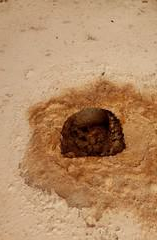Corrosion: (18, 79, 157, 228)
Spalling: (59, 107, 127, 159)
